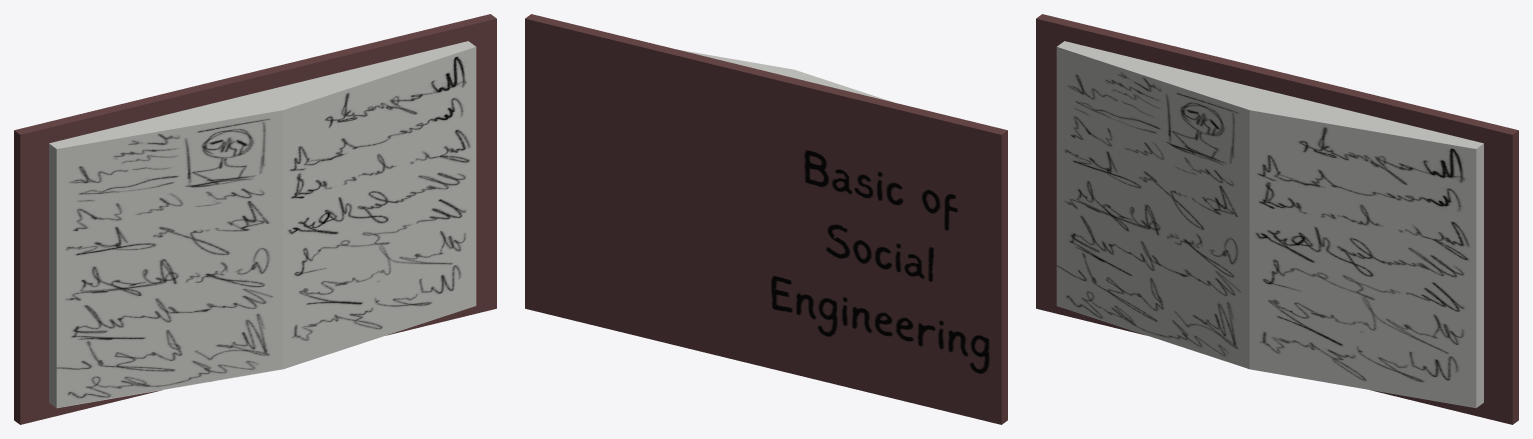
The model's file is open book.fbx.
3 renders of one model, left to right at view 1: azimuth 30°, elevation 25°; view 2: azimuth 150°, elevation 25°; view 3: azimuth 330°, elevation 25°, orthographic.
Parts seen in each view (by area): view 1: Plane.001, Plane; view 2: Plane, Plane.001; view 3: Plane.001, Plane.
Part boxes in pixels (x1,y1,x2,y2): Plane.001: [49, 41, 476, 408]; Plane: [14, 14, 496, 424]; Plane: [525, 14, 1007, 424]; Plane.001: [678, 49, 891, 101]; Plane.001: [1056, 41, 1483, 408]; Plane: [1036, 14, 1518, 424].
Size of the model in its own units: 344 by 200 by 38.59.
2 materials, 2 textured.
